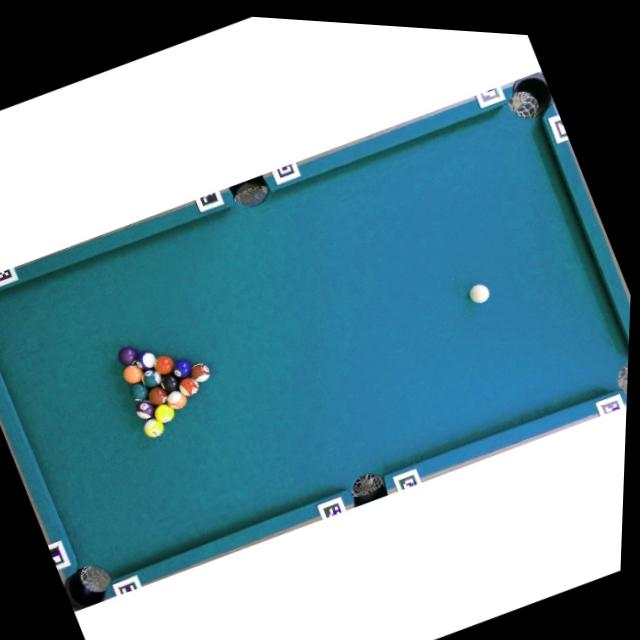cue ball: (465, 279, 494, 308)
other: (120, 360, 148, 388), (132, 396, 160, 424), (115, 342, 142, 370), (140, 414, 168, 441), (187, 359, 214, 387), (151, 351, 178, 378), (176, 374, 203, 401), (164, 387, 191, 414), (127, 378, 153, 405), (145, 383, 172, 409), (152, 400, 179, 426), (133, 347, 160, 373), (139, 365, 165, 392), (169, 356, 196, 382), (159, 370, 184, 396)
